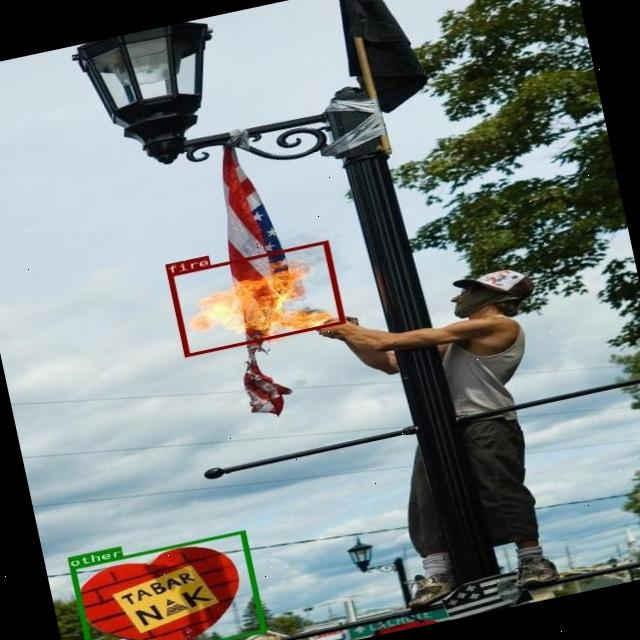fire: (166, 240, 344, 356)
